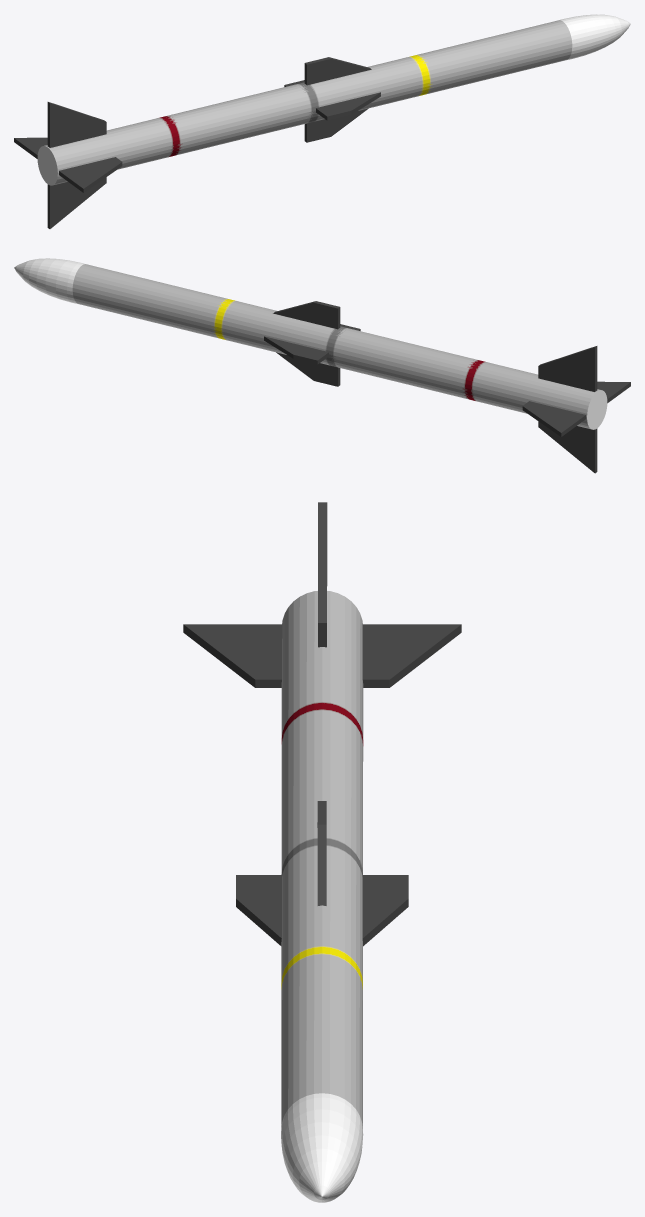
The picture shows the model from 3 angles, top to bottom: view 1: azimuth 30°, elevation 25°; view 2: azimuth 150°, elevation 25°; view 3: azimuth 270°, elevation 25°; orthographic projection. The views are drawn at different scales.
Parts seen in each view (by area): view 1: 球.001; view 2: 球.001; view 3: 球.001.
Part boxes in pixels (x1,y1,x2,y2): 球.001: (14,14,630,228); 球.001: (14,258,630,473); 球.001: (183,502,461,1202).
Bounding box in the file's own units: 4.72 × 0.9751 × 0.9751.
Materials: 3 (1 with a texture image).
